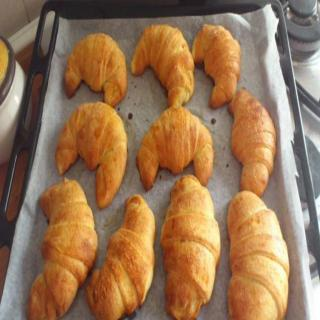Croissant: (28, 179, 98, 319), (158, 171, 220, 319), (86, 194, 154, 319), (227, 190, 289, 319), (58, 100, 128, 208), (136, 104, 212, 194), (129, 24, 193, 108), (229, 88, 276, 198), (62, 29, 126, 109), (190, 20, 240, 108)
